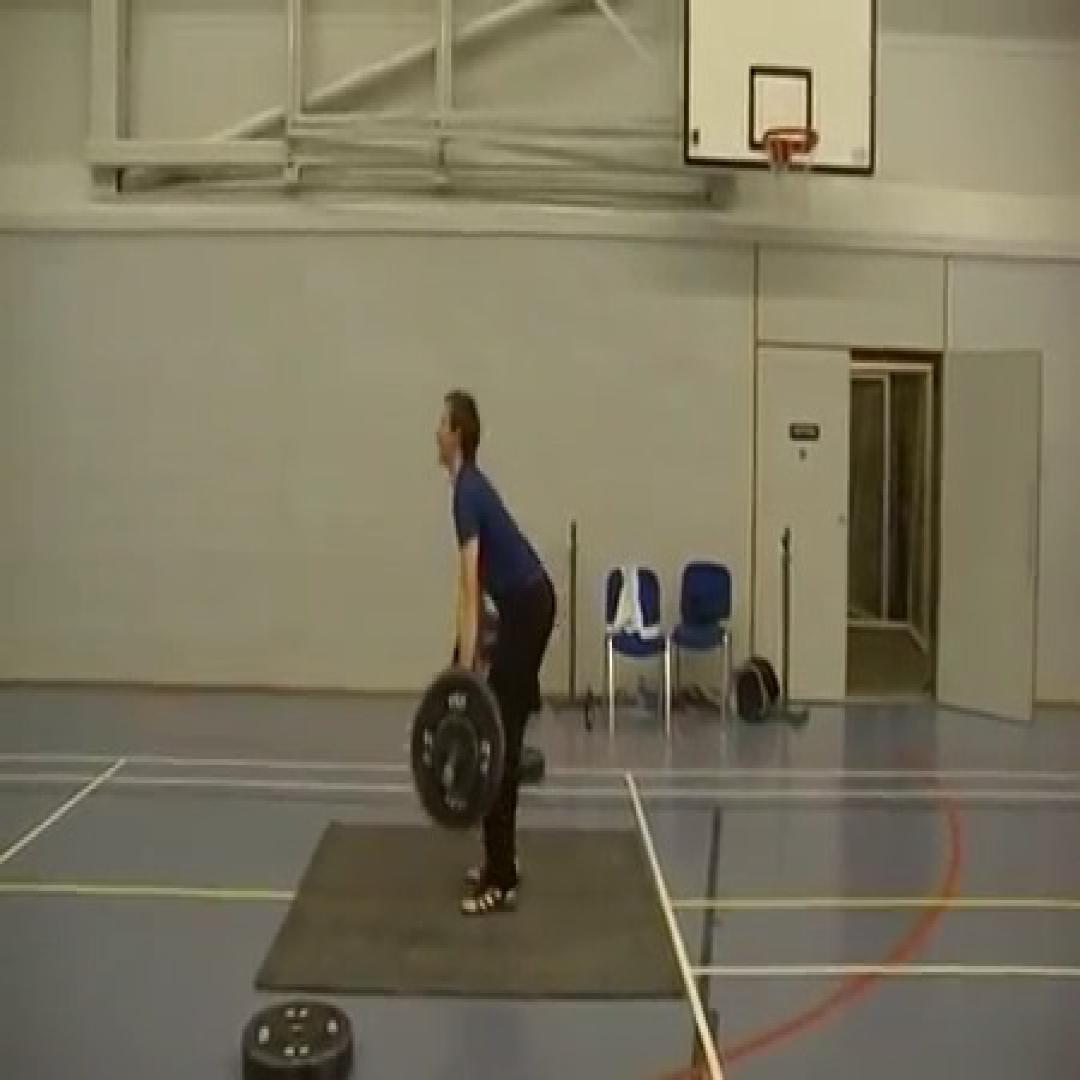Bar: (440, 765, 458, 792)
Barbell: (410, 669, 506, 831)
